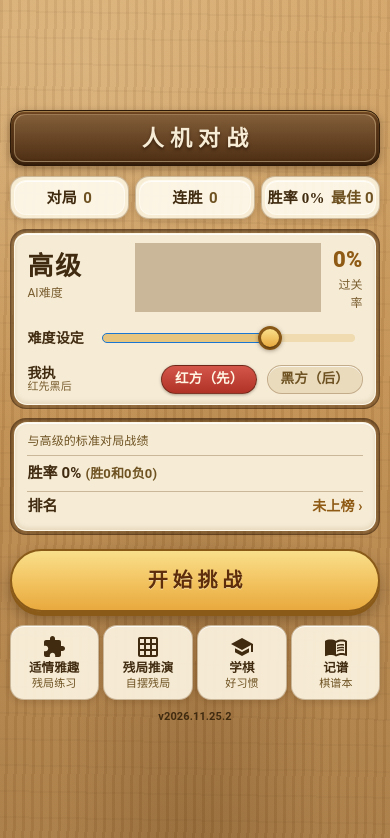
Scenario: 适情雅趣 → 推演 的接线（v2026.11.23.9） › 点「推演」进的是双人手动模式：标题自由推演 + 无任何 AI 入口
Click the text "适情雅趣".
click(54, 669)  # box [29, 662, 79, 676]
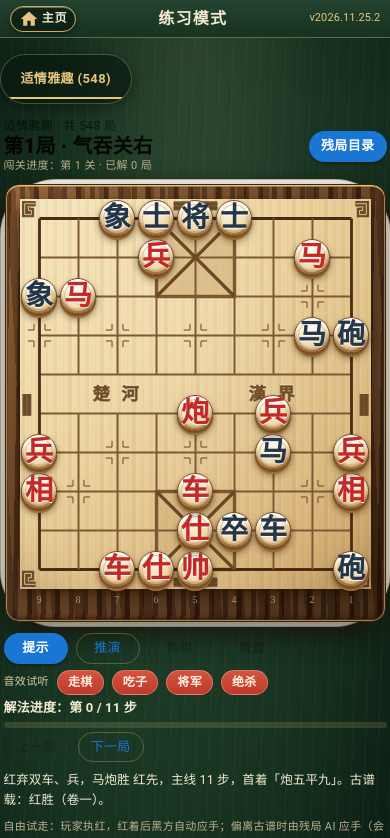
Result: the text "适情雅趣 · 共 548 局" is shown at [4, 119, 116, 133]
Click the button with test id "ancient-simulate".
click(108, 648)  # box [76, 633, 140, 664]
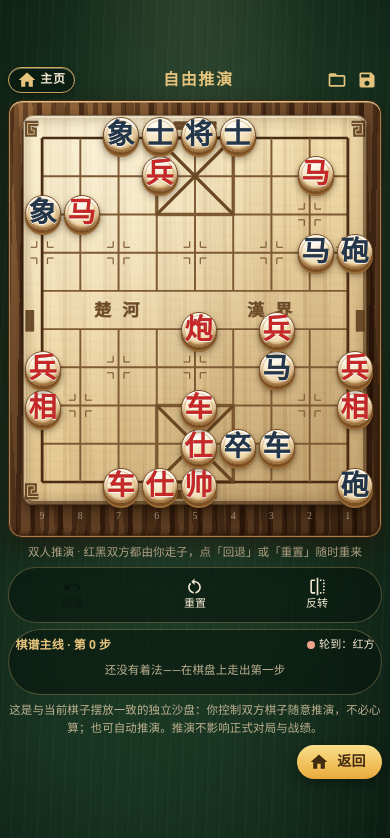
Result: the text "自由推演" is shown at [163, 71, 234, 88]
Result: the text "双人推演 · 红黑双方都由你走子，点「回退」或「重置」随时重来" is shown at [8, 544, 382, 561]
Result: the button with test id "sim-reset" is shown at [136, 572, 254, 618]
